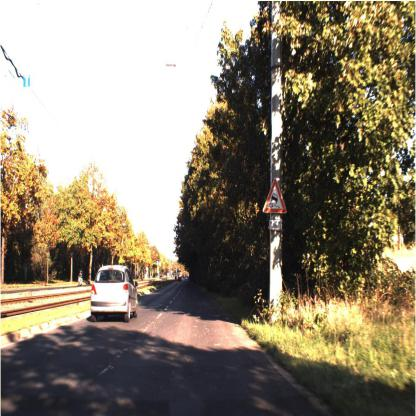danger: (259, 175, 289, 216)
